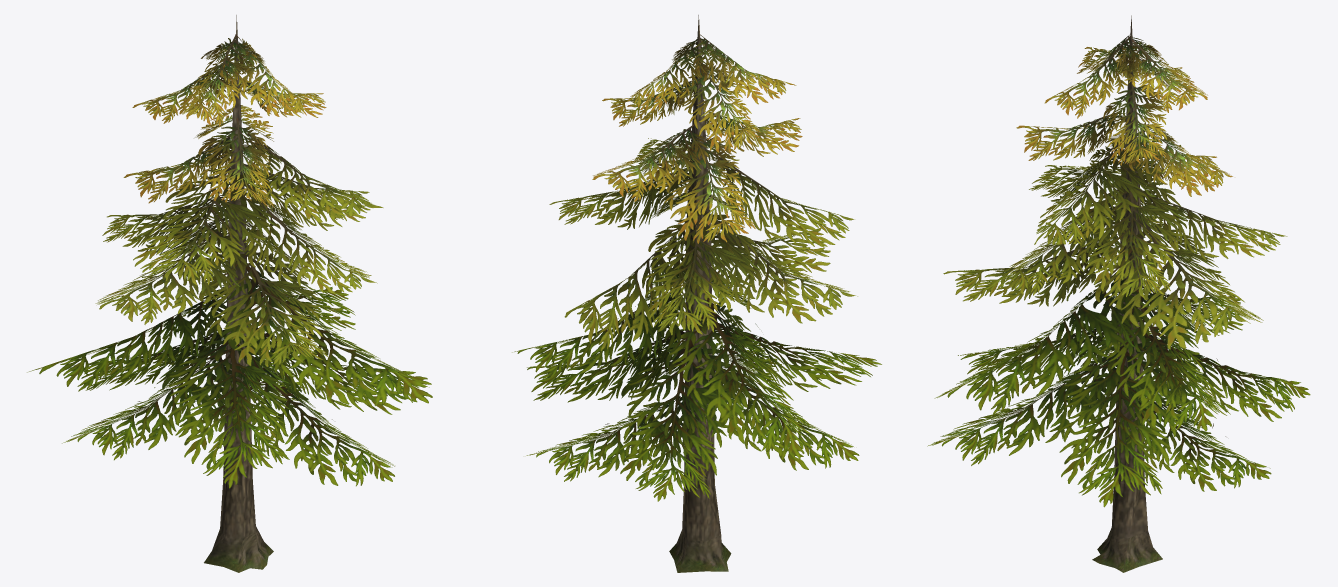
Rendered from songshu02_03.FBX.
3 views of the same model, side by side, from view 1: azimuth 30°, elevation 25°; view 2: azimuth 150°, elevation 25°; view 3: azimuth 270°, elevation 25° (orthographic).
Parts seen in each view (by area): view 1: songshu02_03; view 2: songshu02_03; view 3: songshu02_03.
Boxes of the visible parts, x1,y1,x2,y2 form: songshu02_03: (27,15,432,572); songshu02_03: (512,15,881,572); songshu02_03: (927,15,1310,572).
Bounding box in the file's own units: 4.48 × 6.04 × 4.13.
